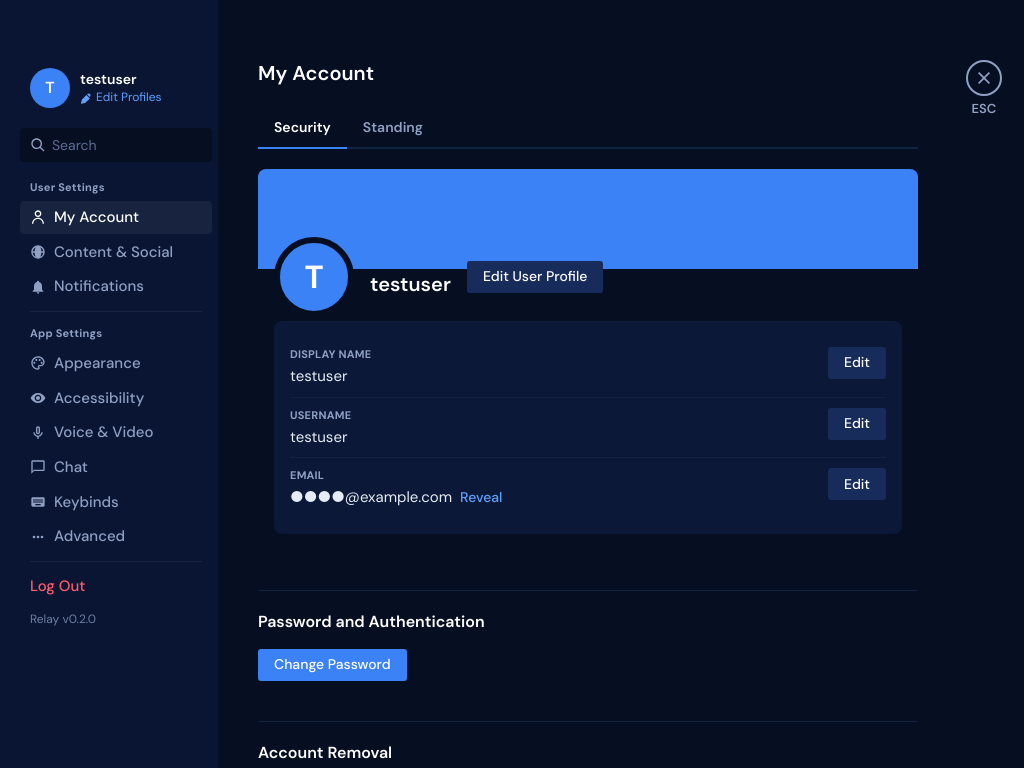
Test: UserSettings › reveals email when Reveal button is clicked
Click the button "Reveal".
click(481, 498)  # box top-left (460, 488), bottom-right (502, 508)
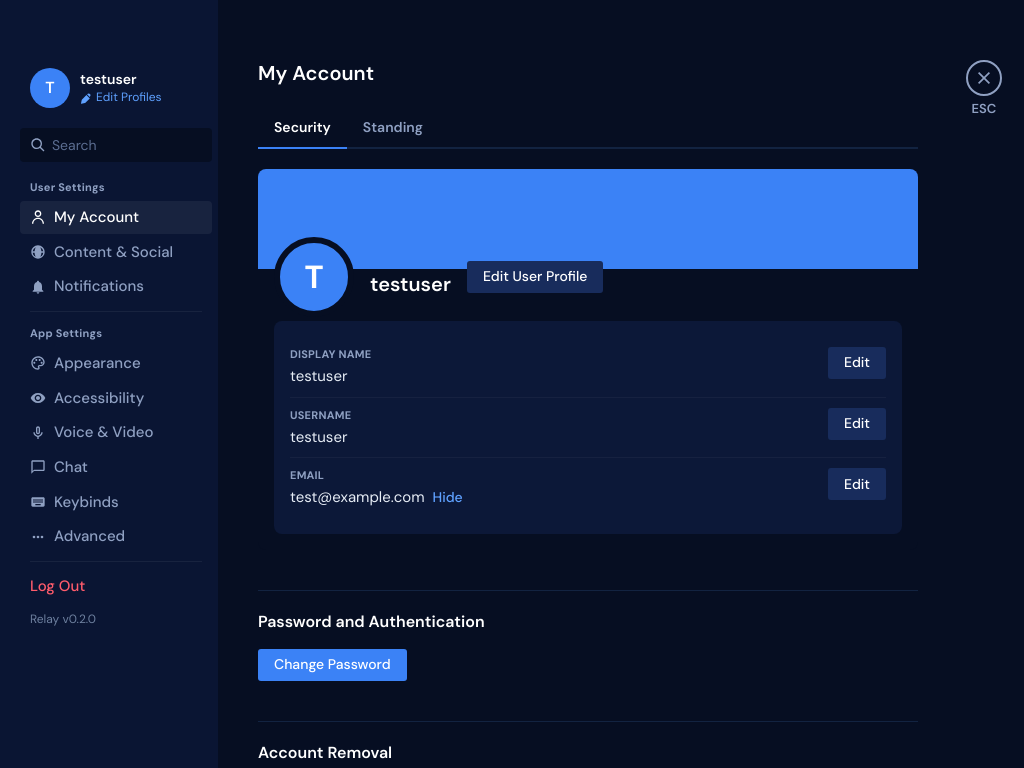
expect the text "test@example.com" is shown: met, box top-left (290, 487), bottom-right (424, 507)
expect the button "Hide" is shown: met, box top-left (432, 488), bottom-right (463, 508)
